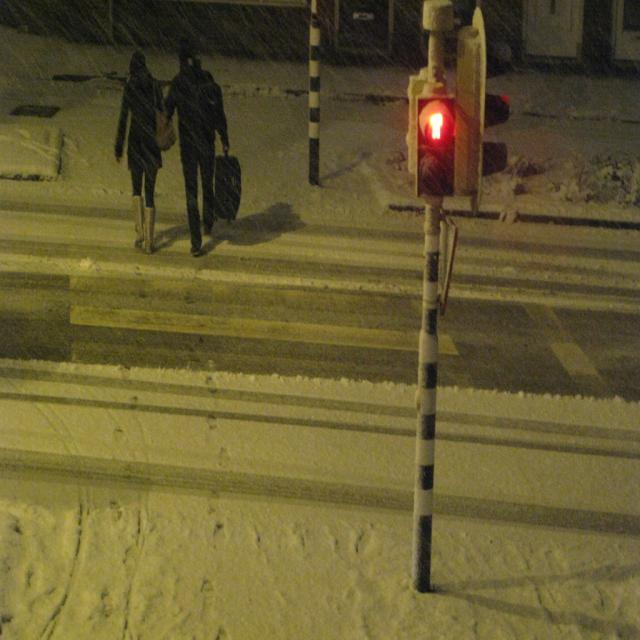traffic light: (418, 99, 453, 193)
